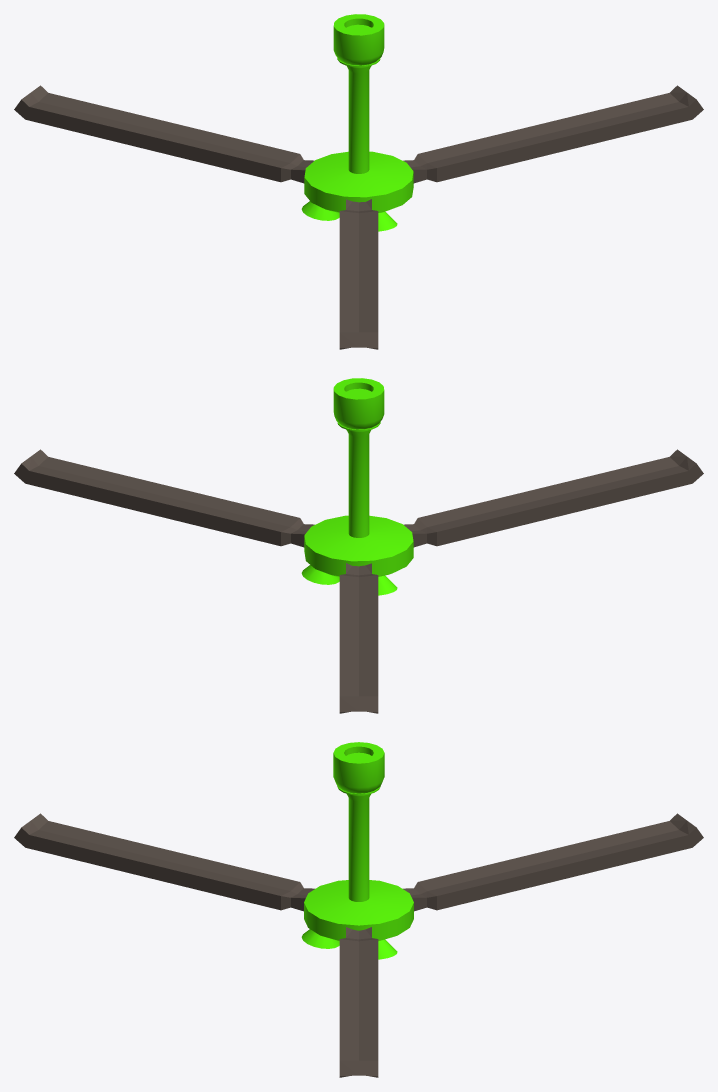
File: fan7.glb
3 views of the same model, one above another, from view 1: azimuth 30°, elevation 25°; view 2: azimuth 150°, elevation 25°; view 3: azimuth 270°, elevation 25° (orthographic).
Visible parts, largest first — view 1: Fan7_Tris; view 2: Fan7_Tris; view 3: Fan7_Tris.
Part boxes in pixels (left/top/right/bottom): Fan7_Tris: left=14, top=14, right=703, bottom=349; Fan7_Tris: left=14, top=378, right=703, bottom=713; Fan7_Tris: left=14, top=742, right=703, bottom=1077.
Size of the model in its own units: 5.05 by 1.77 by 5.83.
